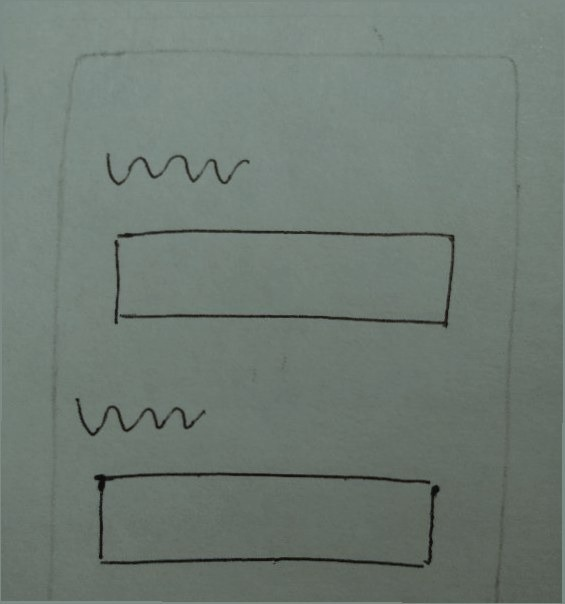text: (97, 137, 258, 196), (69, 387, 211, 443)
text_input: (107, 222, 461, 340), (87, 461, 444, 578)
